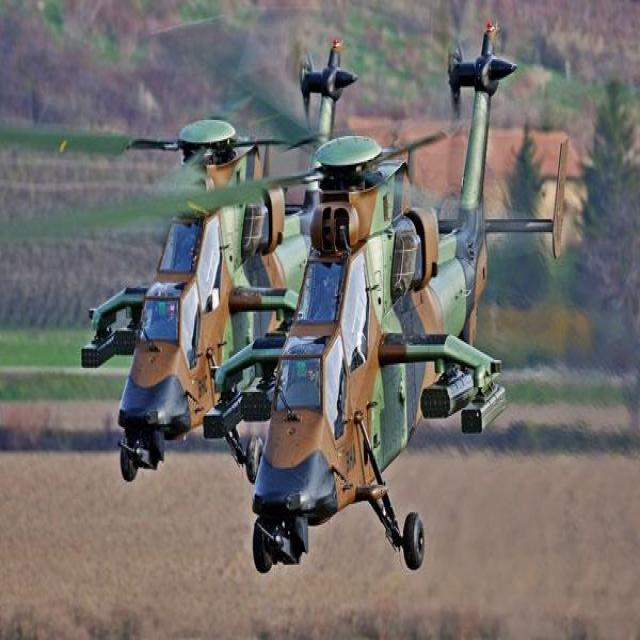MIL_HELO: (0, 16, 625, 578), (0, 62, 315, 492)
